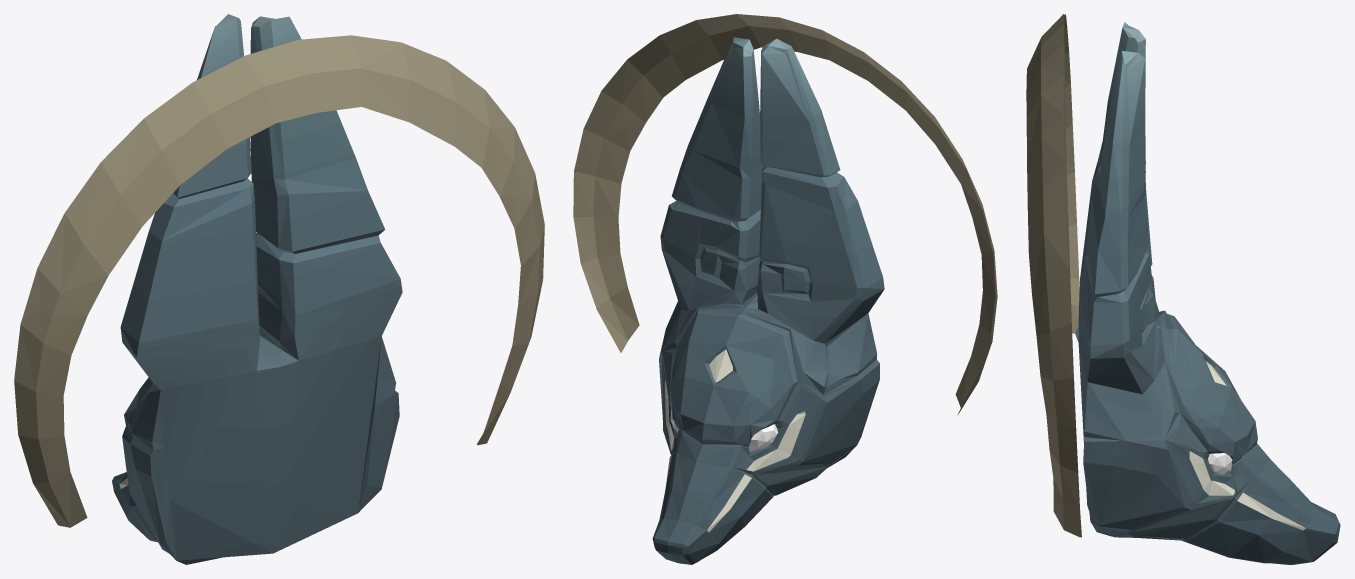
The model's file is CharSkyKid_Mask_AP08Wolf.glb.
3 views of the same model, side by side, from view 1: azimuth 30°, elevation 25°; view 2: azimuth 150°, elevation 25°; view 3: azimuth 270°, elevation 25° (orthographic). The views are drawn at different scales.
Visible parts, largest first — view 1: CharSkyKid_Mask_AP08Wolf; view 2: CharSkyKid_Mask_AP08Wolf; view 3: CharSkyKid_Mask_AP08Wolf.
Part boxes in pixels (x1,y1,x2,y2): CharSkyKid_Mask_AP08Wolf: [14, 14, 544, 564]; CharSkyKid_Mask_AP08Wolf: [573, 14, 997, 564]; CharSkyKid_Mask_AP08Wolf: [1026, 14, 1340, 564].
Bounding box in the file's own units: 5.31 × 5.64 × 3.04.
1 material, 1 textured.
